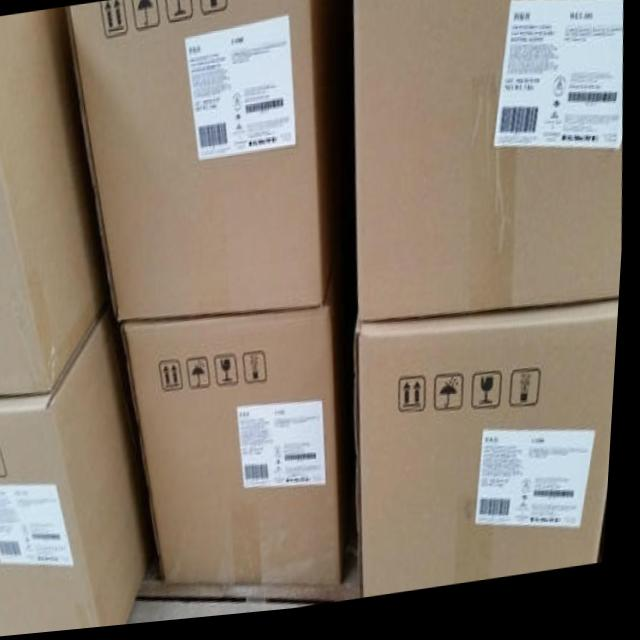box: (64, 0, 343, 324), (354, 0, 624, 329), (126, 256, 361, 589), (360, 311, 623, 604), (0, 301, 162, 638), (0, 13, 113, 397)
